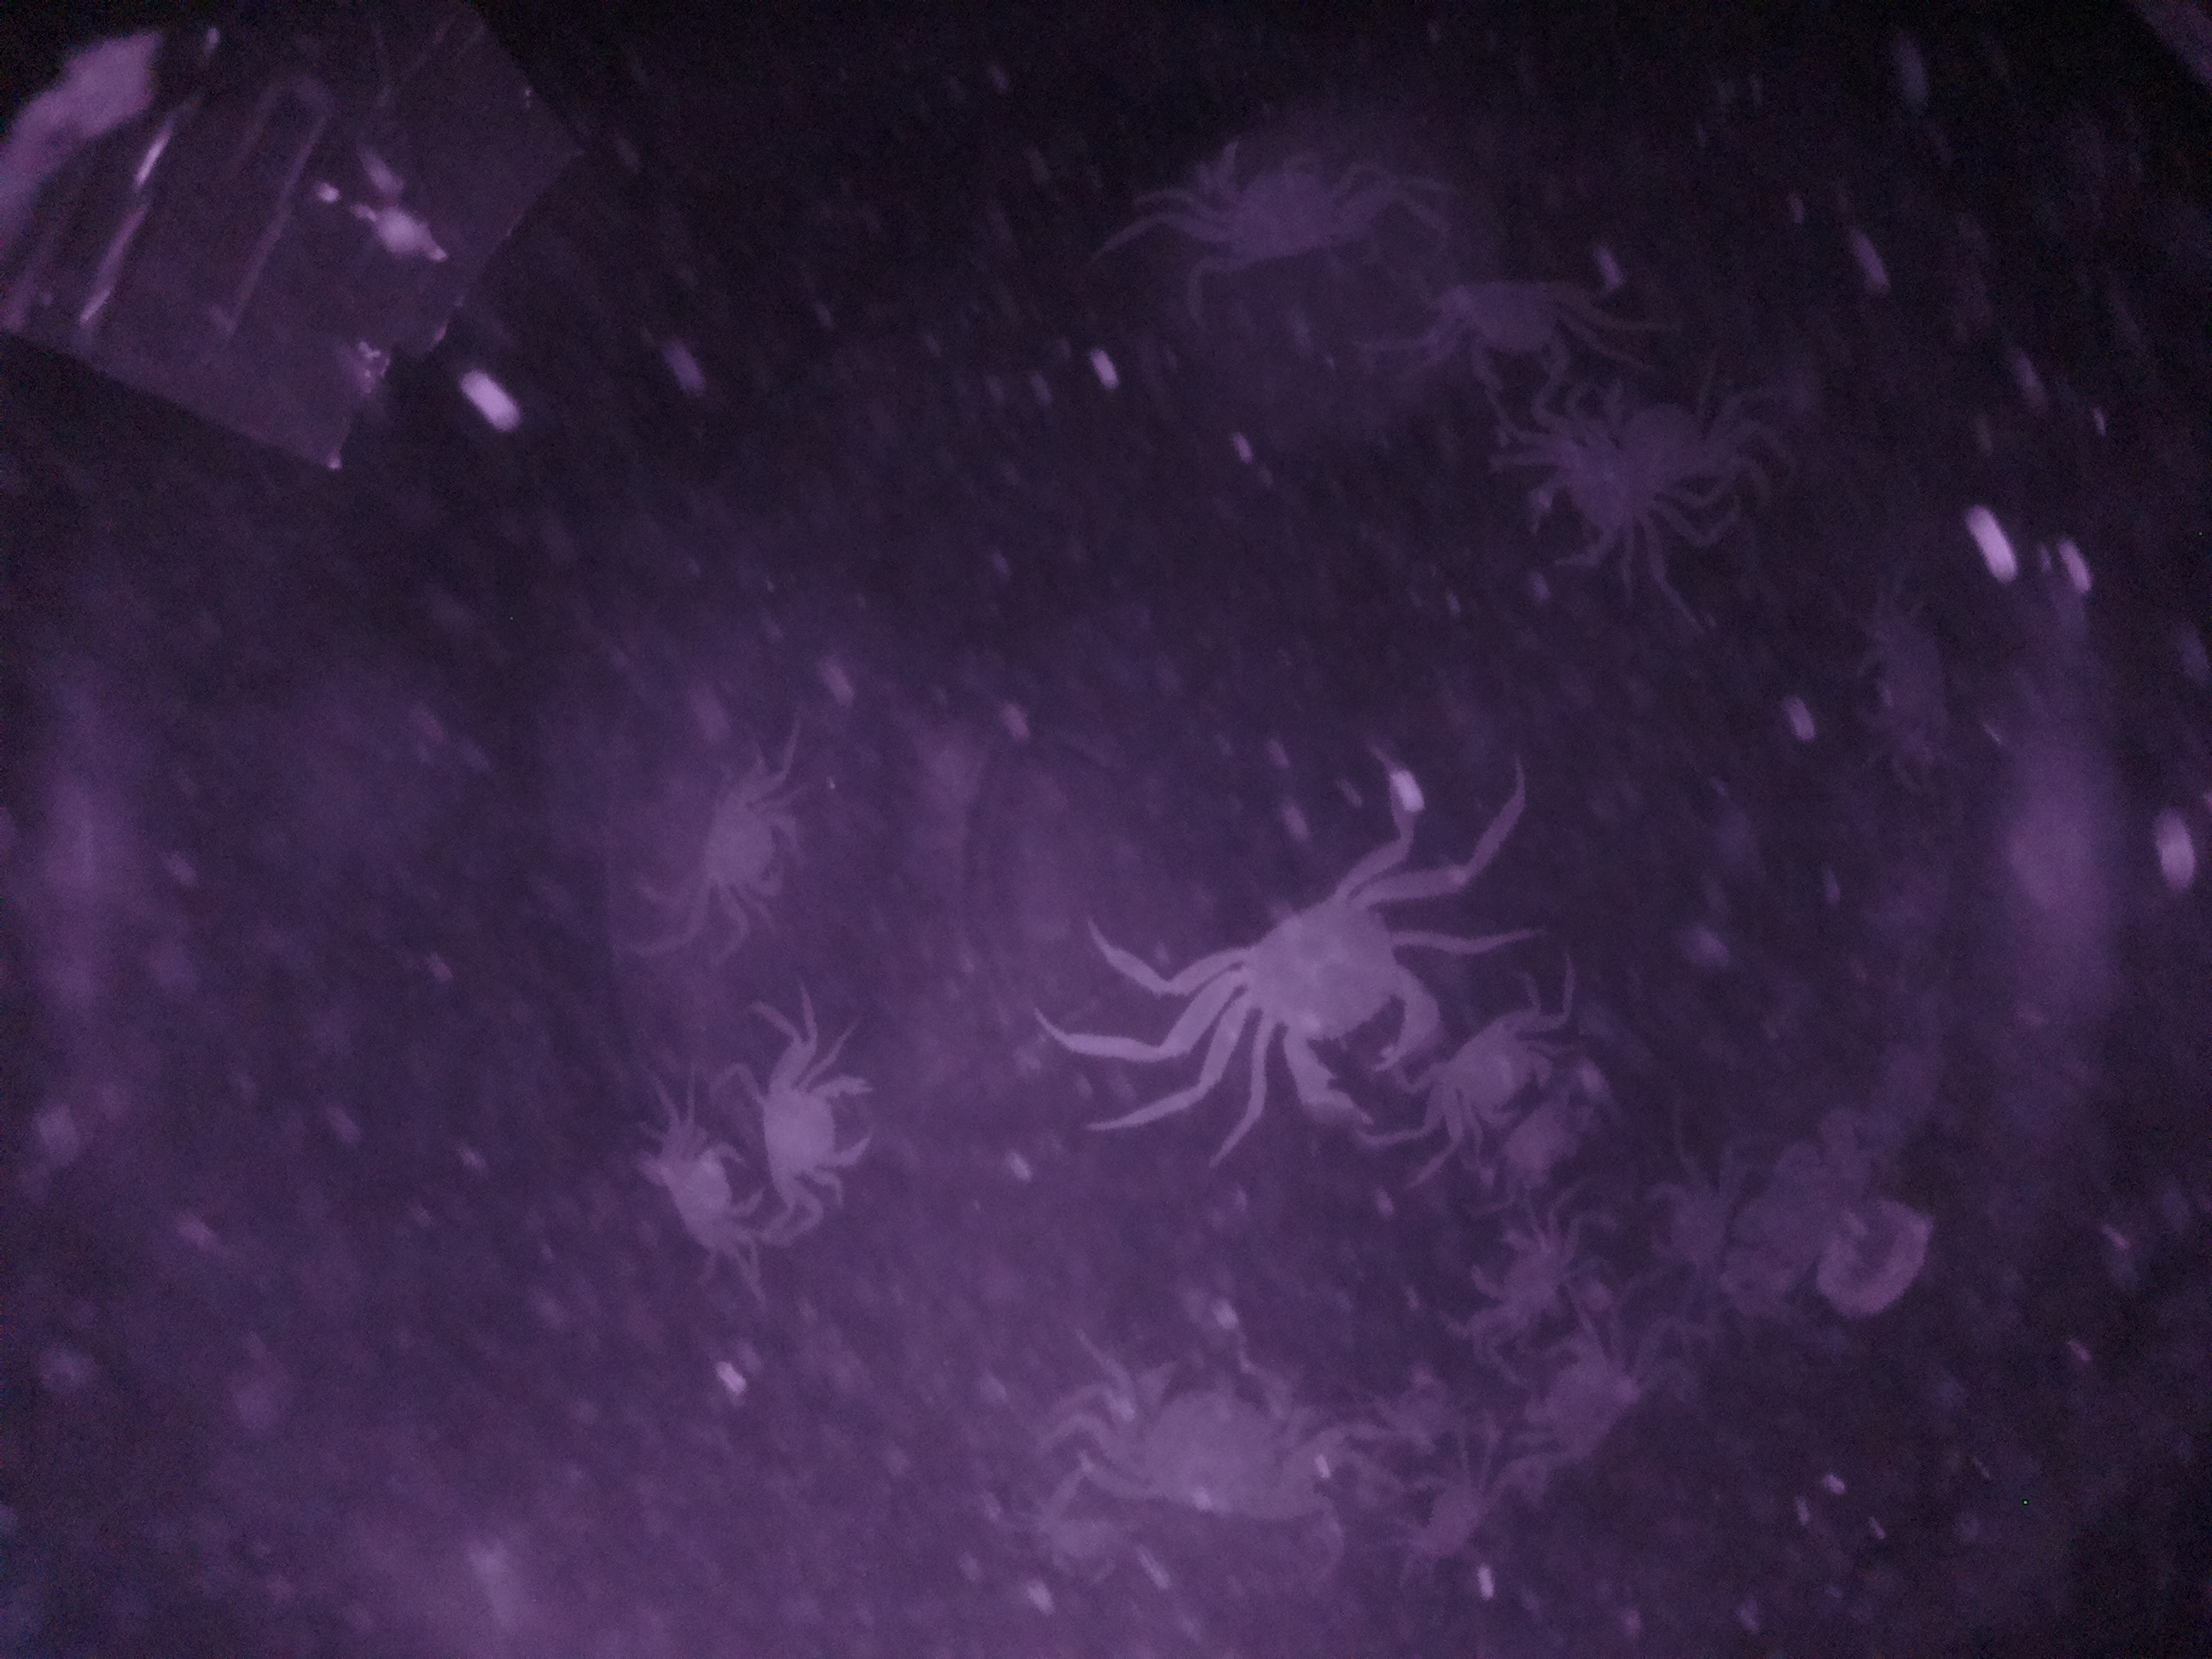Crab: (1191, 859, 1451, 1143), (1062, 1337, 1334, 1539), (1169, 127, 1390, 274), (1407, 253, 1625, 401), (1453, 1168, 1597, 1359), (667, 758, 820, 924), (744, 1039, 888, 1206), (639, 1087, 766, 1276), (1430, 990, 1552, 1168), (1390, 1419, 1505, 1595)
